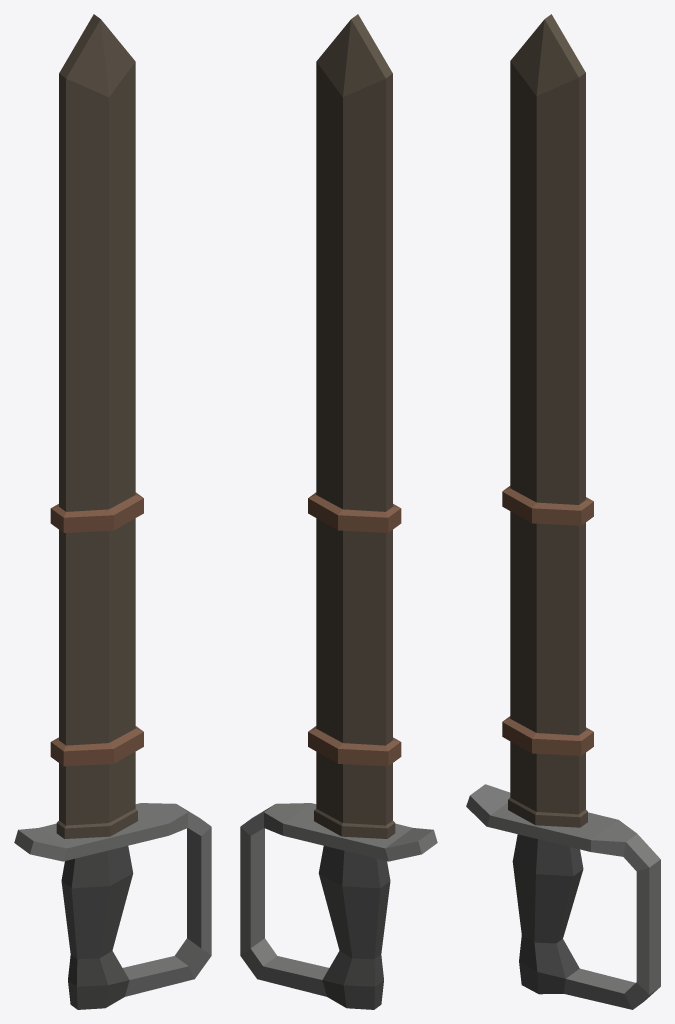
Rendered from SM_Wep_Sword_01.glb.
3 renders of one model, left to right at view 1: azimuth 30°, elevation 25°; view 2: azimuth 150°, elevation 25°; view 3: azimuth 330°, elevation 25°, orthographic.
Visible parts, largest first — view 1: SM_Wep_Sword_Scabbard_01, SM_Wep_Sword_01; view 2: SM_Wep_Sword_Scabbard_01, SM_Wep_Sword_01; view 3: SM_Wep_Sword_Scabbard_01, SM_Wep_Sword_01.
Boxes of the visible parts, left/top/right/bottom form: SM_Wep_Sword_Scabbard_01: left=50, top=14, right=143, bottom=838; SM_Wep_Sword_01: left=14, top=803, right=211, bottom=1009; SM_Wep_Sword_Scabbard_01: left=308, top=14, right=401, bottom=838; SM_Wep_Sword_01: left=240, top=803, right=437, bottom=1009; SM_Wep_Sword_Scabbard_01: left=502, top=14, right=593, bottom=827; SM_Wep_Sword_01: left=466, top=784, right=660, bottom=1009.
Size of the model in its own units: 0.2166 by 1.11 by 0.0672.
2 materials, 2 textured.
